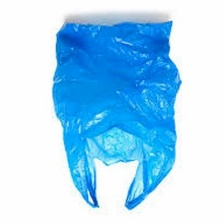plastic_bag: (47, 15, 186, 218)
